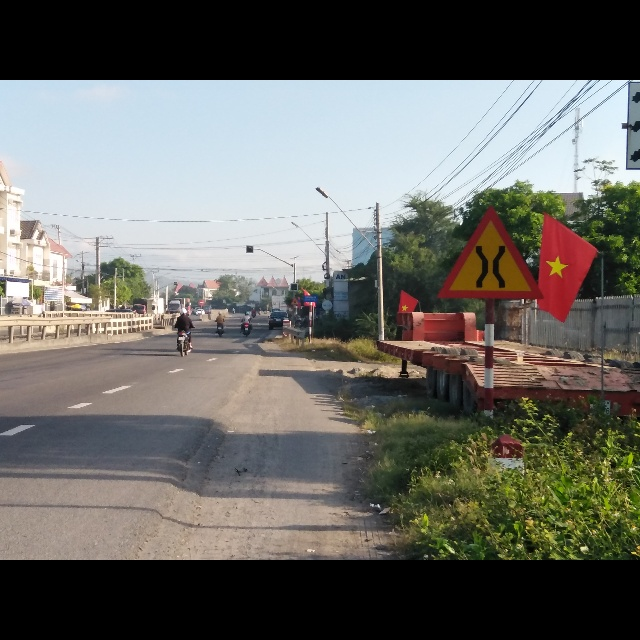Cầu hẹp: (440, 209, 545, 303)
